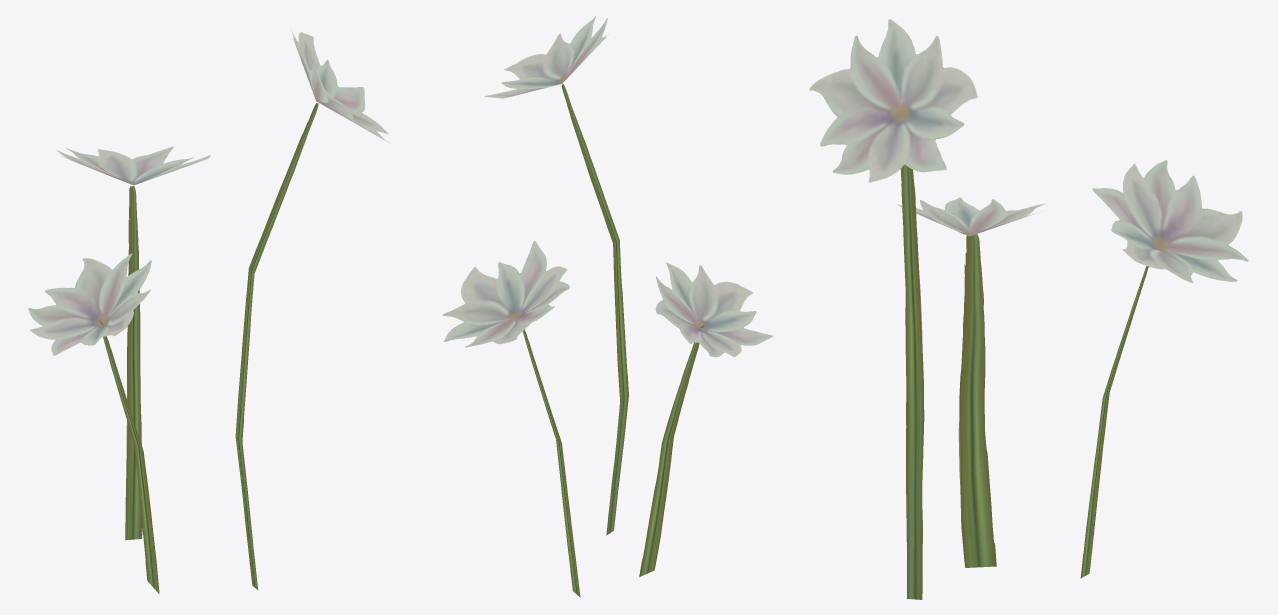
Rendered from SM_Ground_White_Flower_B.fbx.
3 renders of one model, left to right at view 1: azimuth 30°, elevation 25°; view 2: azimuth 150°, elevation 25°; view 3: azimuth 270°, elevation 25°, orthographic. The views are drawn at different scales.
Visible parts, largest first — view 1: SM_Ground_White_Flower_B; view 2: SM_Ground_White_Flower_B; view 3: SM_Ground_White_Flower_B.
Boxes of the visible parts, left/top/right/bottom form: SM_Ground_White_Flower_B: left=28, top=30, right=389, bottom=594; SM_Ground_White_Flower_B: left=442, top=16, right=773, bottom=597; SM_Ground_White_Flower_B: left=809, top=19, right=1248, bottom=599.
Size of the model in its own units: 21.42 by 23.7 by 34.46.
1 material, 1 textured.
